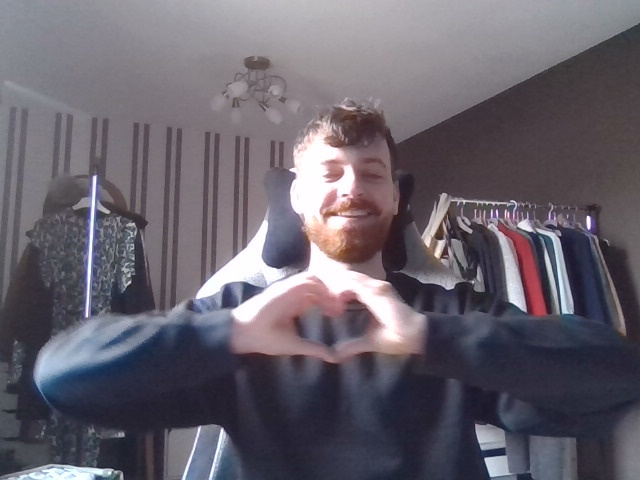Love: (229, 263, 430, 377)
